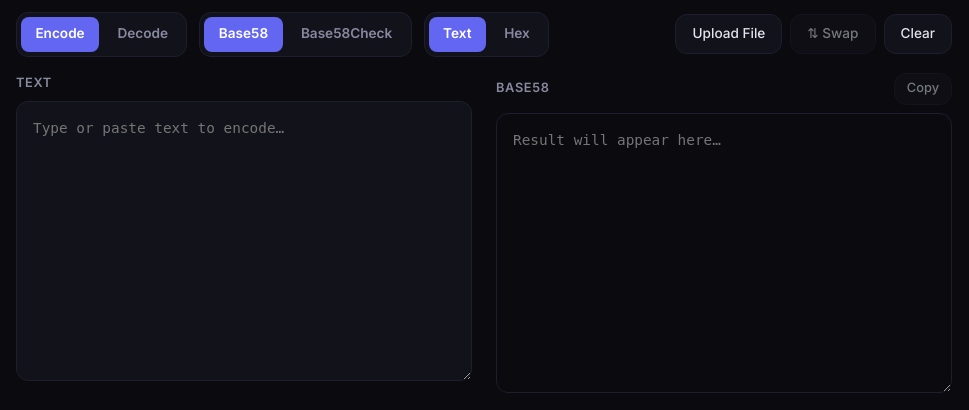
Scenario: Base58Tool UI & Interactions › decodes Base58 to text
Click the button "Decode": {"x": 143, "y": 34} [103,17,182,52]
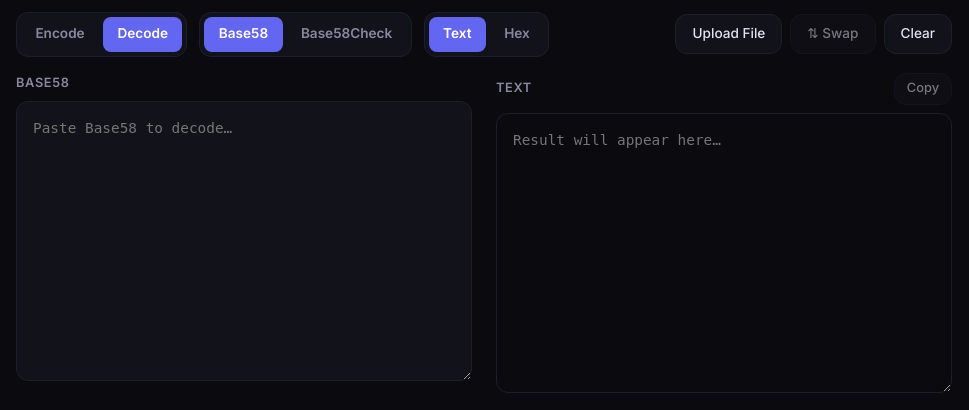
In the text box labelled "Base58": {"x": 244, "y": 241} [16,101,472,381], type "JxF12TrwUP45BMd"
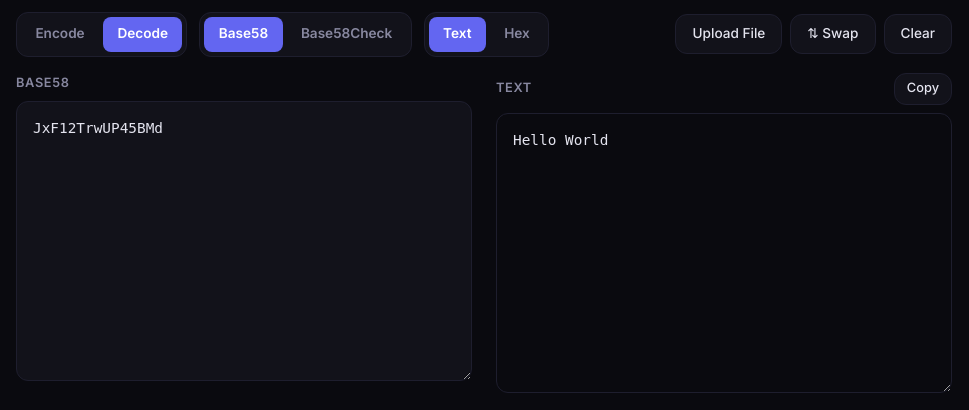
Now the text box labelled "Text" holds "Hello World", box [496,113,952,393]
